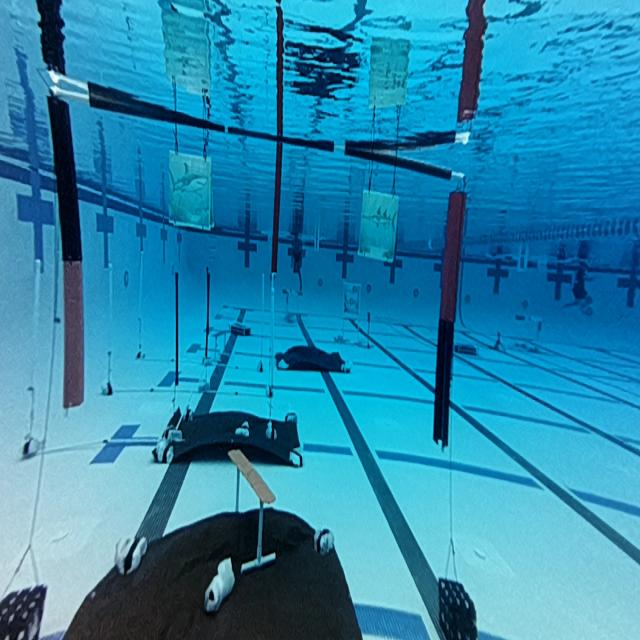pointed_nose: (360, 189, 401, 256)
round_nose: (166, 143, 216, 240)
